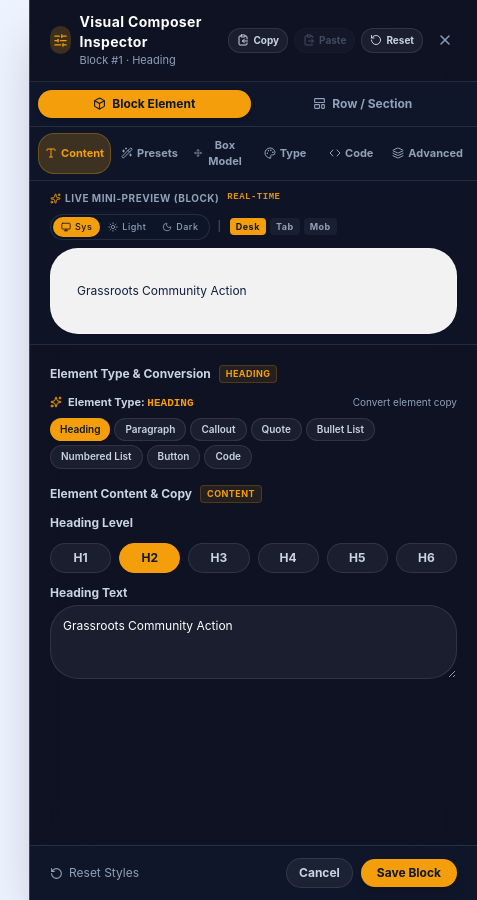
Test: VisualComposerInspector › morphs element type cleanly in content tab
Step 1. Click the button "Quote" → [276, 430], box [250,418,302,442]
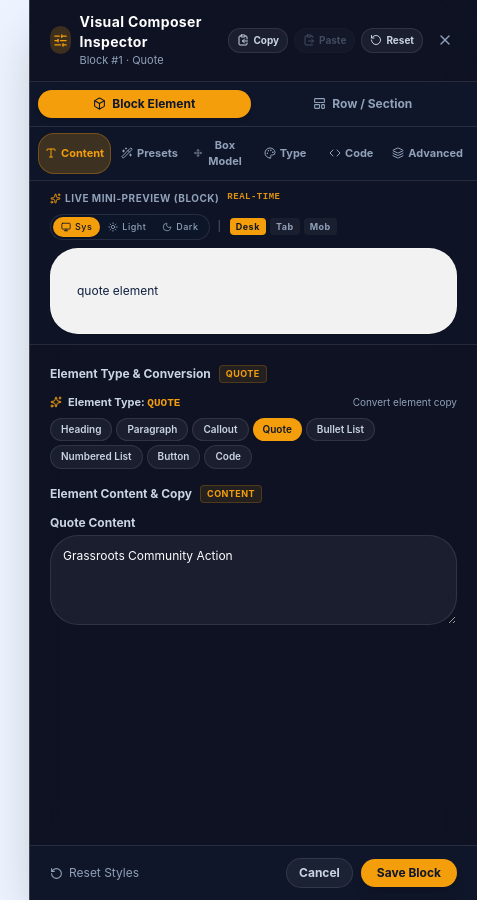
Result: the text "Block #1 · quote" is shown at [80,53,164,67]
Result: the text "Quote Content" is shown at [50,515,135,530]
